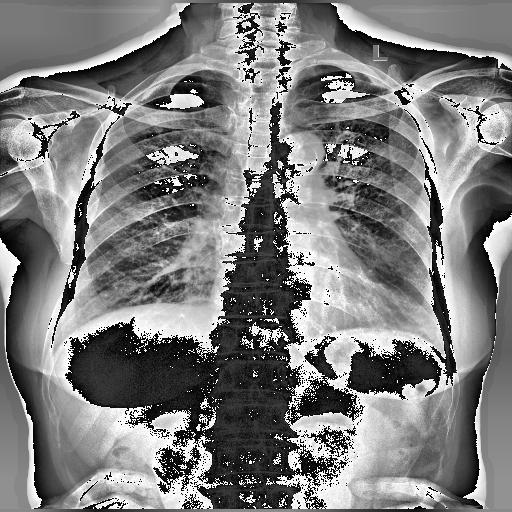0- Aortic enlargement: (270, 130, 322, 193), (269, 134, 325, 179), (272, 133, 326, 171)
11- Pleural thickening: (124, 80, 161, 108), (350, 64, 390, 88), (134, 82, 162, 100), (366, 72, 392, 88)
3- Cardiomegaly: (206, 279, 400, 324)
